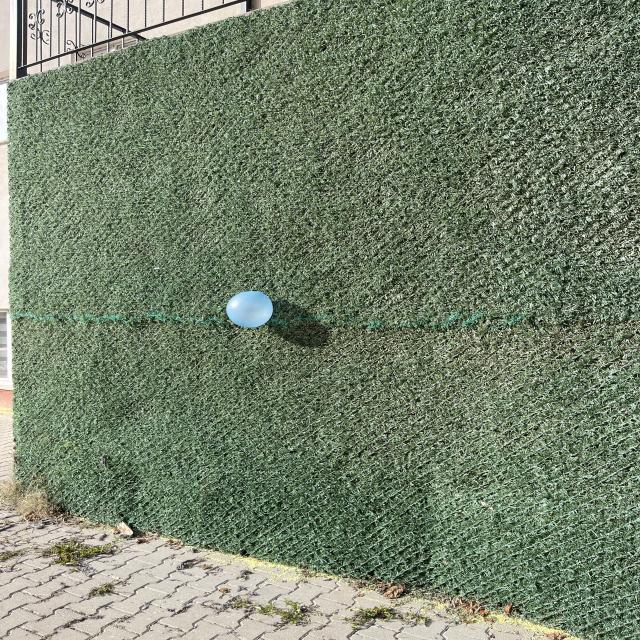balloon: (226, 291, 273, 327)
